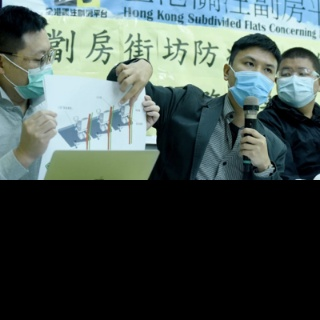with_mask: (4, 44, 56, 101), (228, 54, 278, 111), (275, 63, 320, 109)
